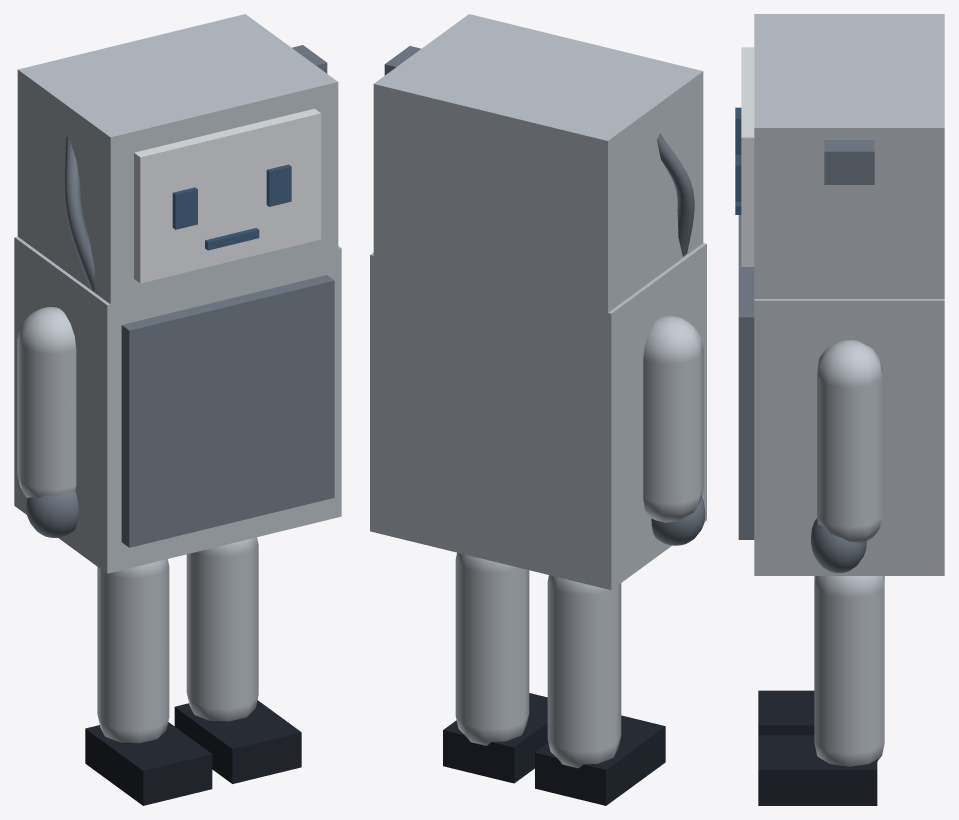
Rendered from profile-arthur.glb.
The picture shows the model from 3 angles, left to right: view 1: azimuth 30°, elevation 25°; view 2: azimuth 150°, elevation 25°; view 3: azimuth 270°, elevation 25°; orthographic projection. The views are drawn at different scales.
Parts seen in each view (by area): view 1: robot-head, front-panel, robot-body, display, left-leg-mesh, right-leg-mesh, left-sleeve, left-shoe, right-shoe, spine-binding, left-hand-mesh, pixel-eye (×2) (+1 smaller); view 2: robot-body, robot-head, left-leg-mesh, right-leg-mesh, left-sleeve, left-shoe, right-shoe, spine-binding, left-hand-mesh; view 3: robot-head, robot-body, right-leg-mesh, right-sleeve, right-shoe, front-panel, display, left-shoe, page-tab, right-hand-mesh.
Boxes of the visible parts, x1,y1,x2,y2 form: robot-head: (17,14,338,314); front-panel: (121,275,334,547); robot-body: (14,236,341,573); display: (134,108,321,283); left-leg-mesh: (97,559,169,743); right-leg-mesh: (186,537,258,721); left-sleeve: (17,307,76,497); left-shoe: (85,722,212,805); right-shoe: (174,700,301,783); spine-binding: (64,136,94,290); left-hand-mesh: (26,491,78,537); pixel-eye (×2): (172,164,291,229); robot-body: (370,243,706,589); robot-head: (373,14,703,323); left-leg-mesh: (547,575,621,768); right-leg-mesh: (455,552,529,745); left-sleeve: (643,315,703,522); left-shoe: (535,715,665,805); right-shoe: (443,693,548,783); spine-binding: (656,133,694,256); left-hand-mesh: (651,497,705,545); robot-head: (754,14,944,298); robot-body: (754,299,944,575); right-leg-mesh: (814,576,884,766); right-sleeve: (817,340,882,543); right-shoe: (758,735,877,805); front-panel: (738,215,754,539); display: (741,47,754,266); left-shoe: (758,690,814,735); page-tab: (824,140,874,184); right-hand-mesh: (811,518,866,572).
Size of the model in its own units: 1.4 by 2.9 by 0.7925.
